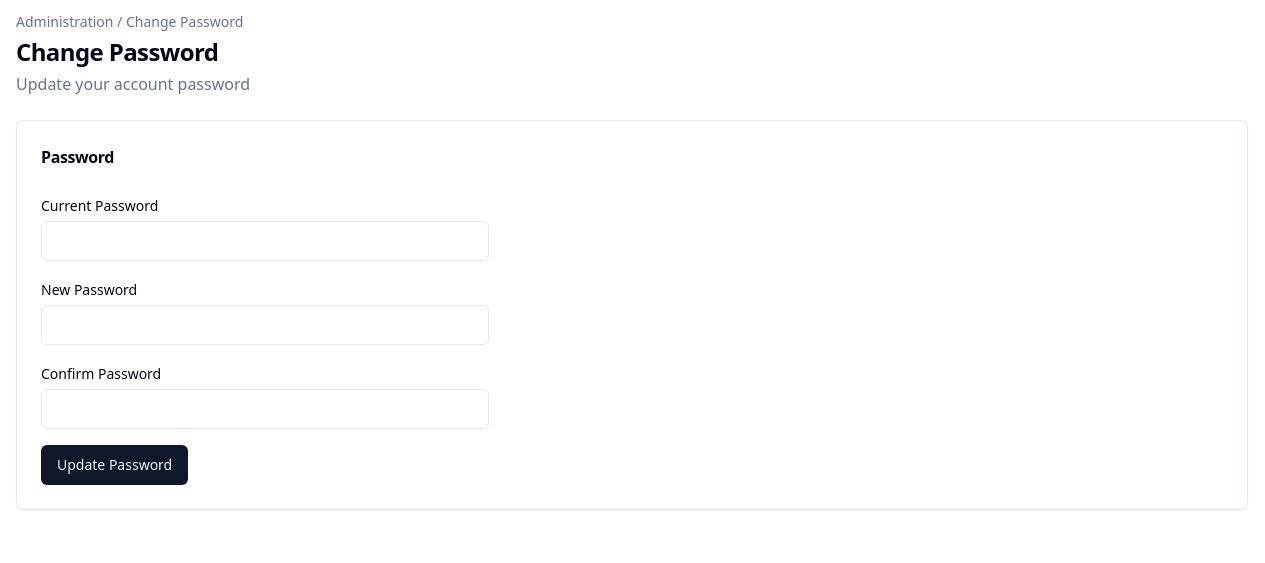
Test case: ChangePasswordPage integration › renders password form fields
Expected: the password field labelled "New Password" is shown, [41, 305, 489, 345]
Expected: the password field labelled "Confirm Password" is shown, [41, 389, 489, 429]
In the password field labelled "Current Password": (265, 241) [41, 221, 489, 261], type "OldPass123!"
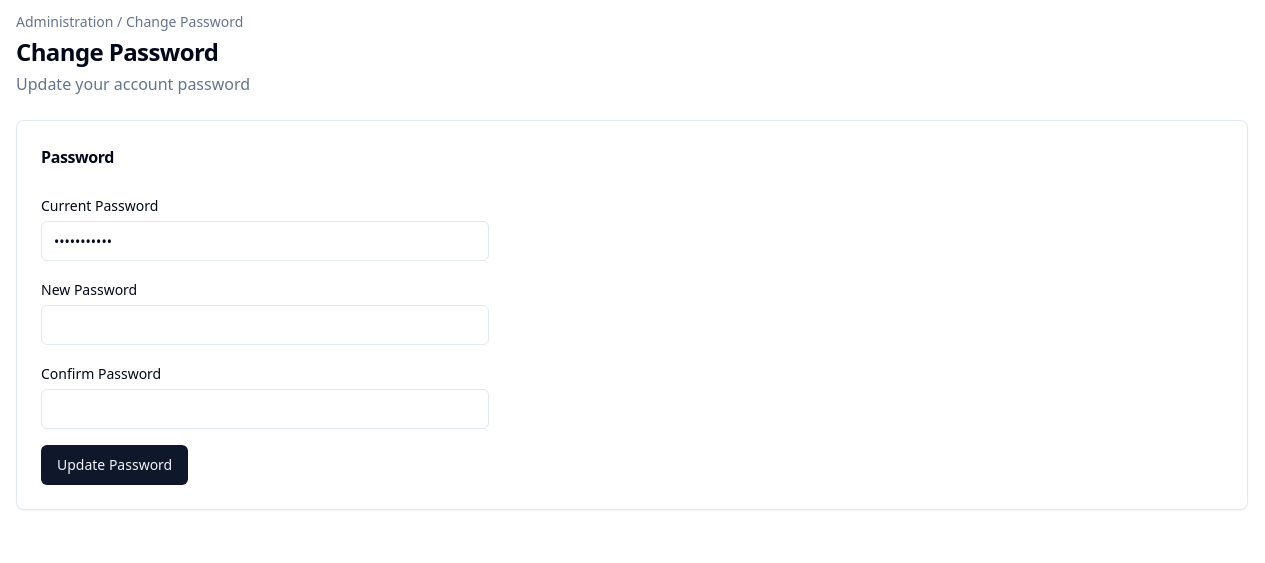
In the password field labelled "New Password": (265, 325) [41, 305, 489, 345], type "NewPass123!"
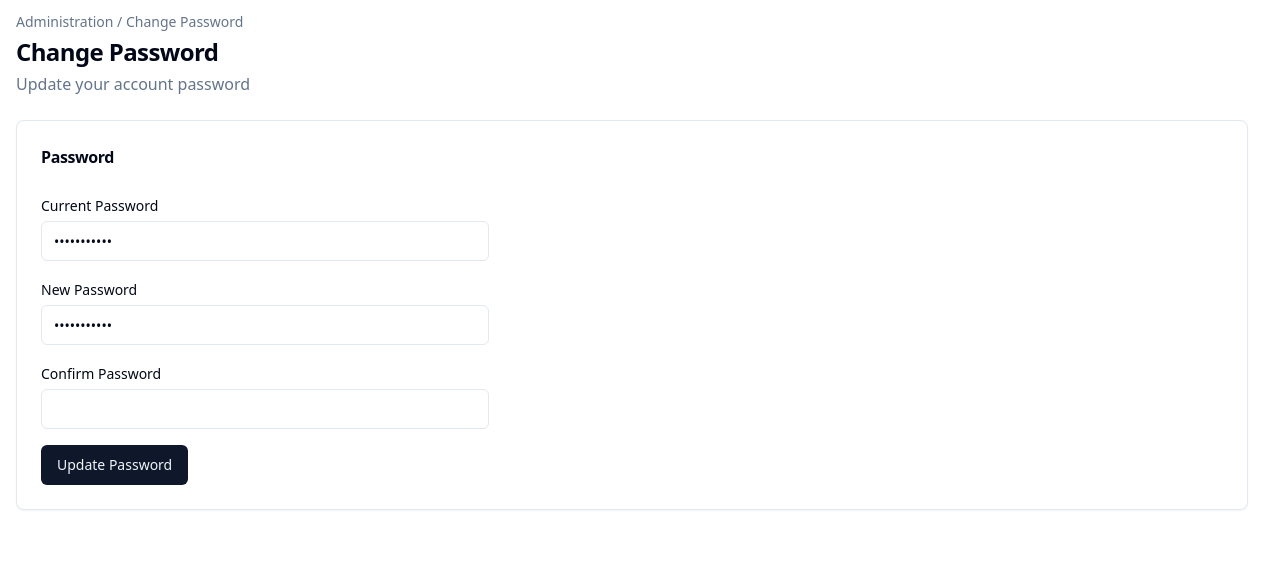
In the password field labelled "Confirm Password": (265, 409) [41, 389, 489, 429], type "NewPass123!"
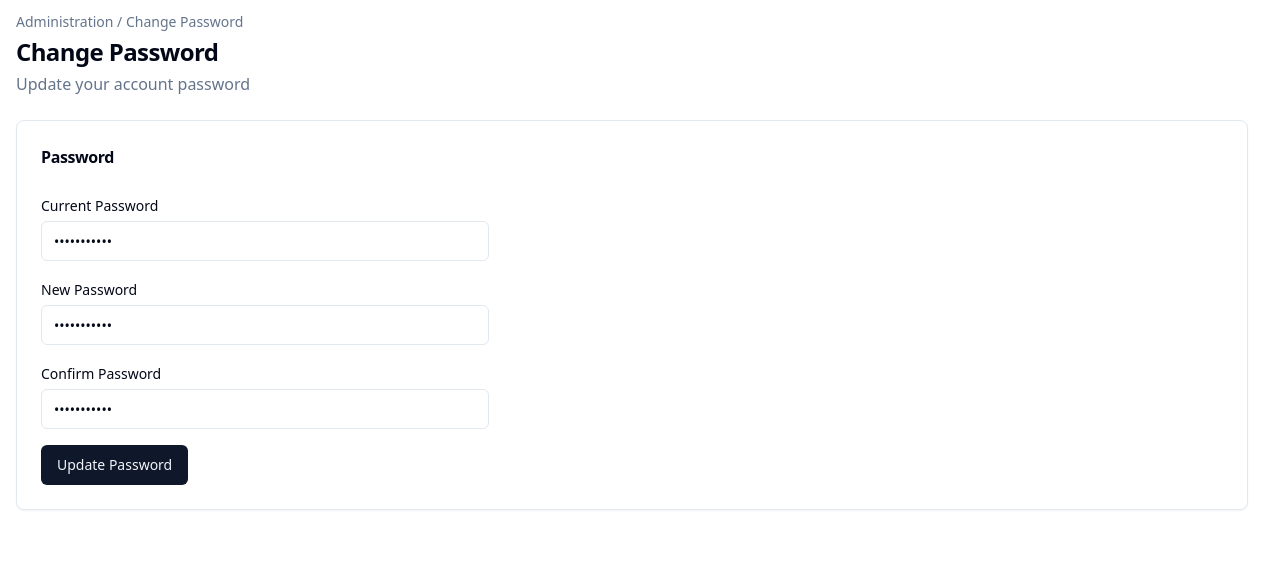
Click the button "Update Password": (115, 465) [41, 445, 188, 485]
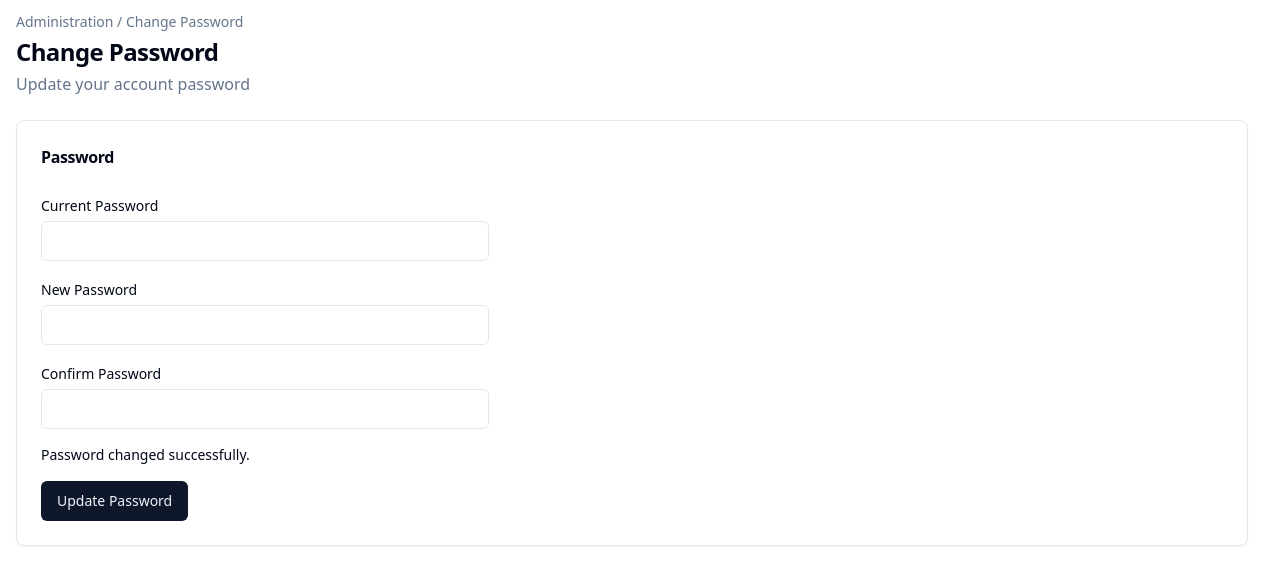
Now the text "Password changed successfully." is shown, box [41, 445, 250, 464]
